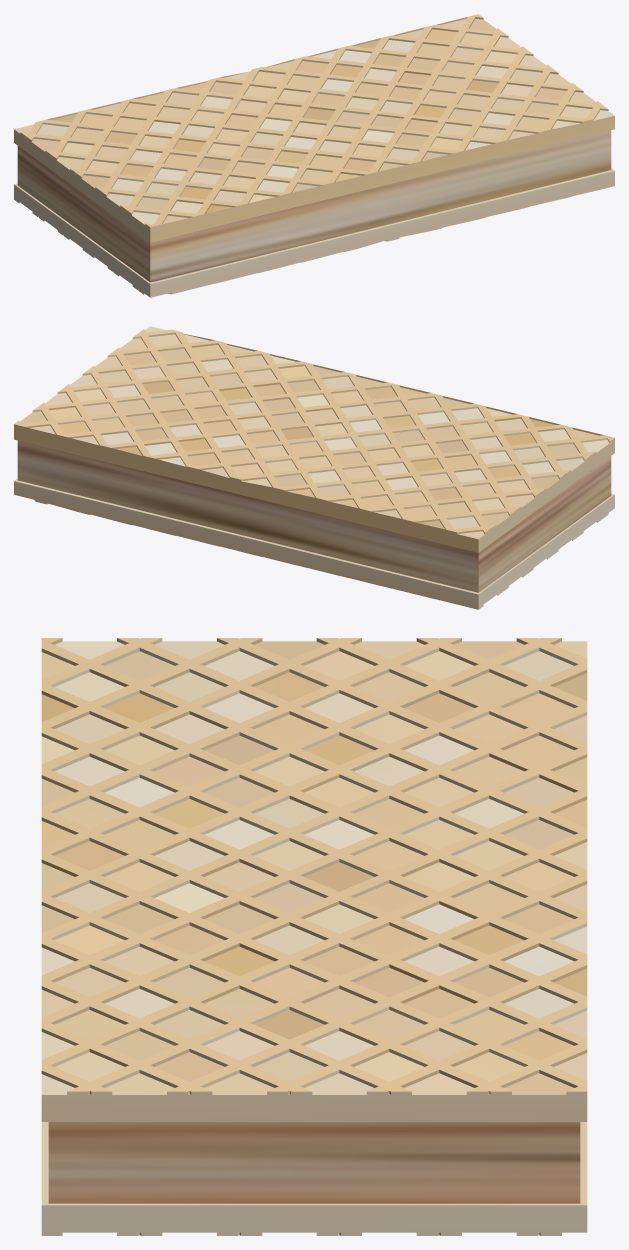
File: Wafer_Test4.fbx
3 renders of one model, top to bottom at view 1: azimuth 30°, elevation 25°; view 2: azimuth 150°, elevation 25°; view 3: azimuth 270°, elevation 25°, orthographic. The views are drawn at different scales.
Parts seen in each view (by area): view 1: Wafer.001; view 2: Wafer.001; view 3: Wafer.001.
Part boxes in pixels (x1,y1,x2,y2): Wafer.001: (14,14,614,297); Wafer.001: (14,326,614,609); Wafer.001: (41,638,587,1235).
Bounding box in the file's own units: 159 × 23.64 × 80.93.
